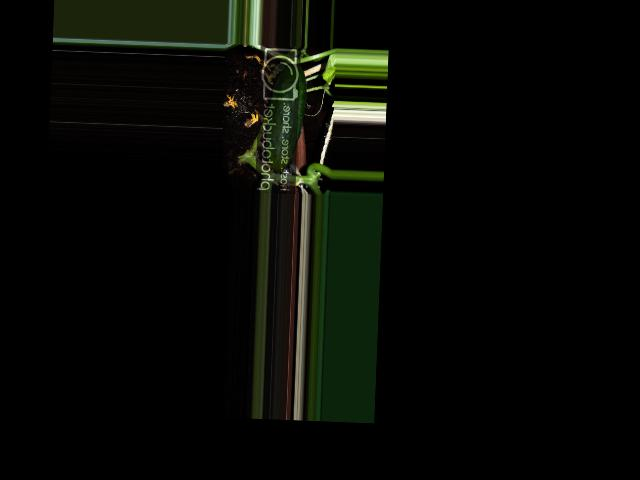cucumber: (263, 64, 307, 171)
